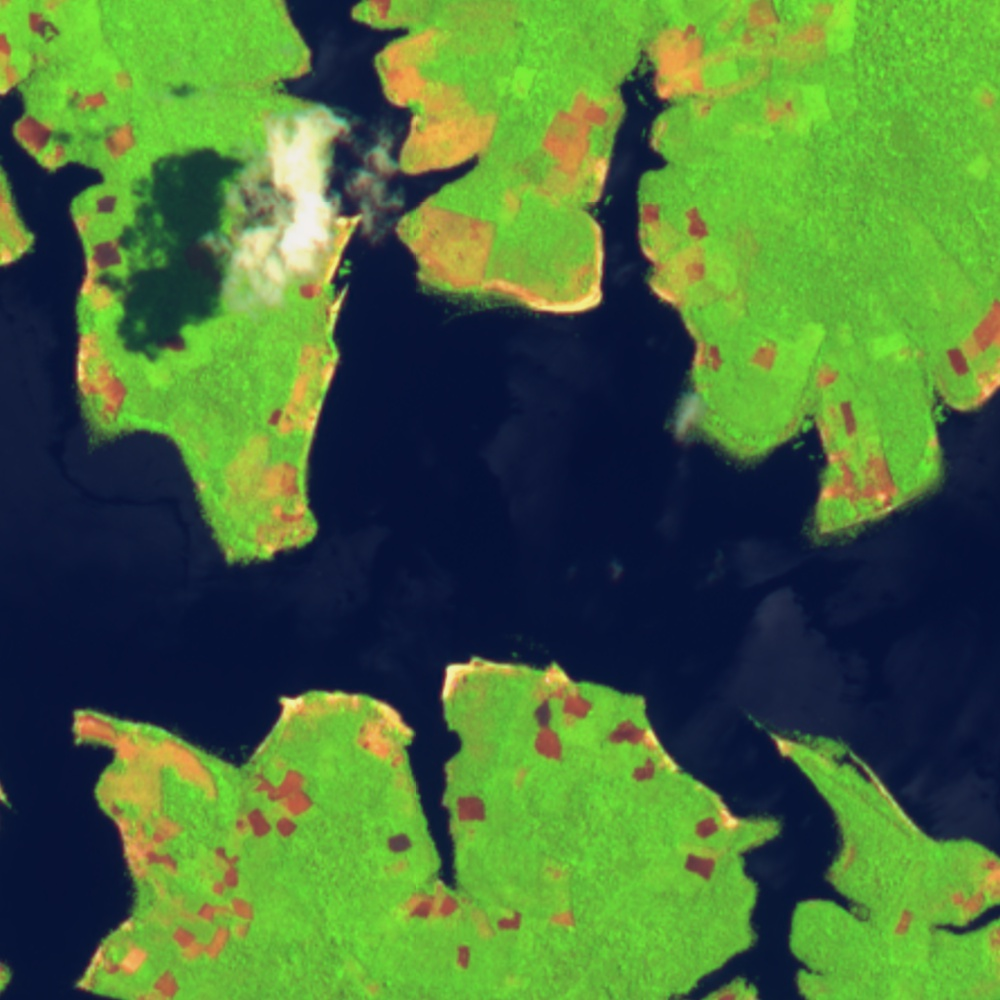legal: (71, 710, 223, 887), (653, 1, 846, 118), (379, 28, 500, 174), (402, 883, 578, 969), (252, 694, 414, 769), (479, 221, 605, 316), (809, 399, 904, 519), (228, 439, 317, 558), (170, 846, 257, 966), (294, 210, 368, 331), (408, 197, 496, 293), (266, 335, 342, 436), (639, 201, 710, 309), (757, 727, 880, 788), (541, 89, 609, 199), (233, 764, 317, 840), (437, 657, 577, 701), (71, 193, 122, 311), (533, 666, 592, 767), (947, 298, 1000, 408), (77, 915, 150, 993), (71, 331, 130, 426), (604, 712, 683, 780), (679, 808, 739, 885), (954, 855, 1000, 918), (16, 115, 69, 166), (1, 189, 29, 276), (688, 318, 729, 373), (100, 116, 136, 170), (1, 31, 21, 99), (357, 1, 407, 28), (68, 84, 110, 115), (141, 966, 179, 1000), (747, 337, 781, 374), (451, 793, 489, 826), (25, 11, 63, 43), (889, 908, 923, 940), (813, 362, 847, 387), (648, 116, 671, 150), (387, 830, 417, 856), (987, 926, 1000, 947)
